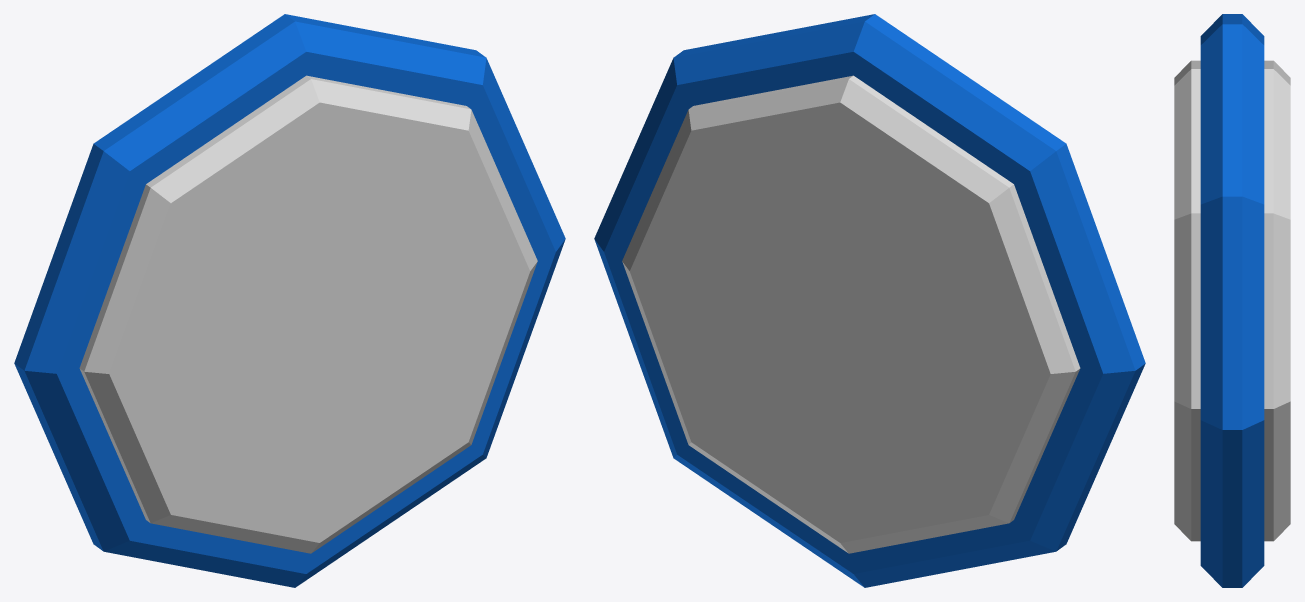
File: PartyDice_d2.glb
The picture shows the model from 3 angles, left to right: view 1: azimuth 30°, elevation 25°; view 2: azimuth 150°, elevation 25°; view 3: azimuth 270°, elevation 25°; orthographic projection. The views are drawn at different scales.
Visible parts, largest first — view 1: Circle.001; view 2: Circle.001; view 3: Circle.001.
Part boxes in pixels (x1=…): Circle.001: x1=14, y1=14, x2=565, y2=587; Circle.001: x1=594, y1=14, x2=1145, y2=587; Circle.001: x1=1174, y1=14, x2=1290, y2=587.
Size of the model in its own units: 180 by 180 by 34.29.
